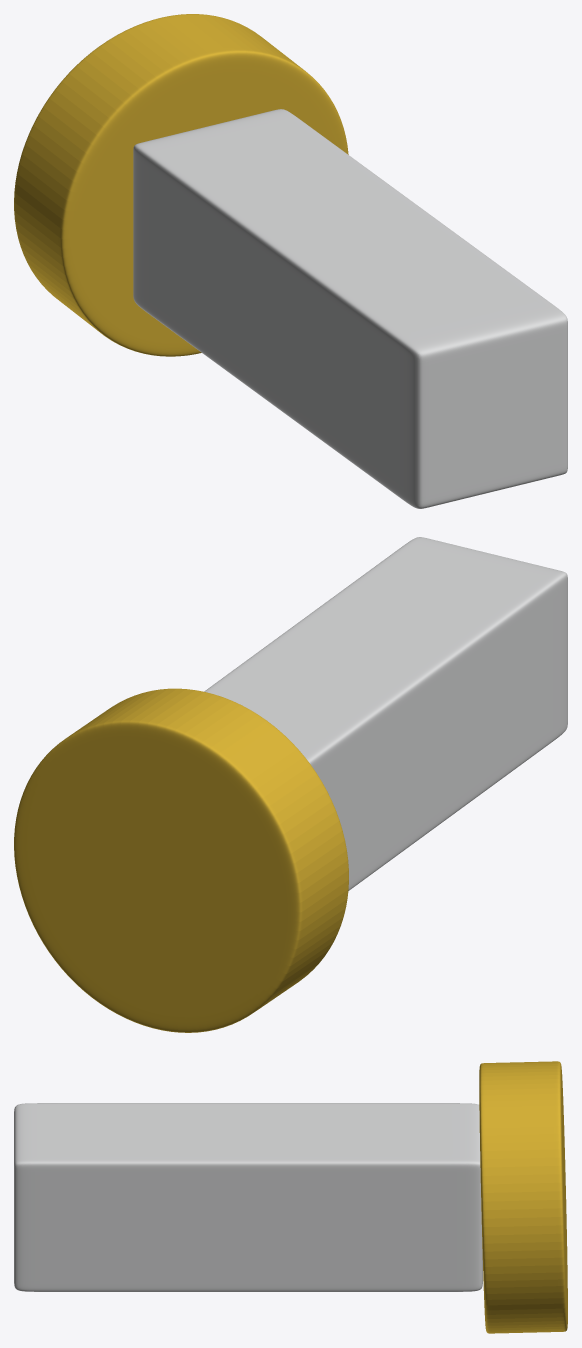
The model's file is trophy-input.glb.
3 renders of one model, top to bottom at view 1: azimuth 30°, elevation 25°; view 2: azimuth 150°, elevation 25°; view 3: azimuth 270°, elevation 25°, orthographic. The views are drawn at different scales.
Visible parts, largest first — view 1: superquadric_1, superquadric_0; view 2: superquadric_0, superquadric_1; view 3: superquadric_1, superquadric_0.
Part boxes in pixels (x1=…): superquadric_1: x1=133, y1=109, x2=567, y2=508; superquadric_0: x1=14, y1=14, x2=348, y2=356; superquadric_0: x1=14, y1=688, x2=348, y2=1032; superquadric_1: x1=204, y1=537, x2=567, y2=890; superquadric_1: x1=14, y1=1103, x2=482, y2=1291; superquadric_0: x1=479, y1=1061, x2=567, y2=1333.
Bounding box in the file's own units: 0.4883 × 0.4916 × 1.
